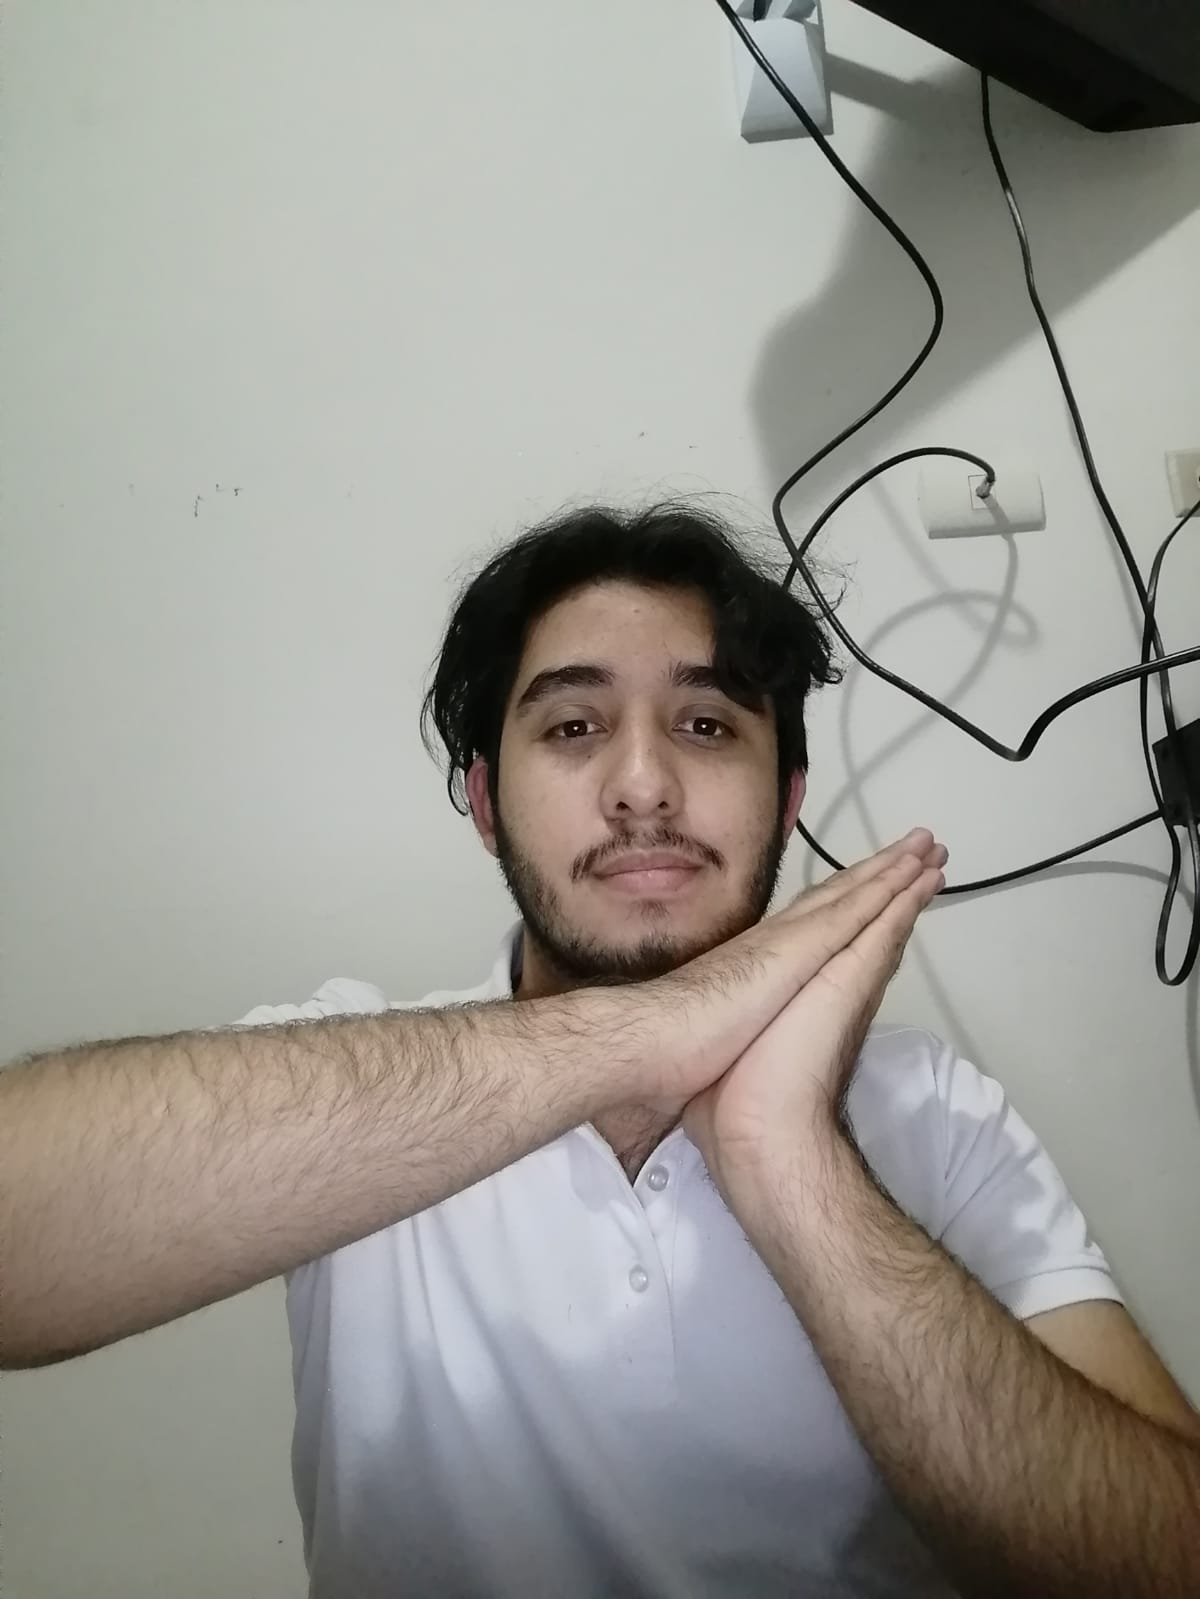Bed: (565, 801, 957, 1159)
